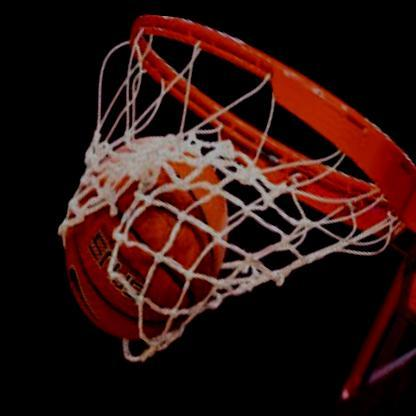basketball: (9, 94, 274, 380)
rim: (94, 7, 416, 275)
